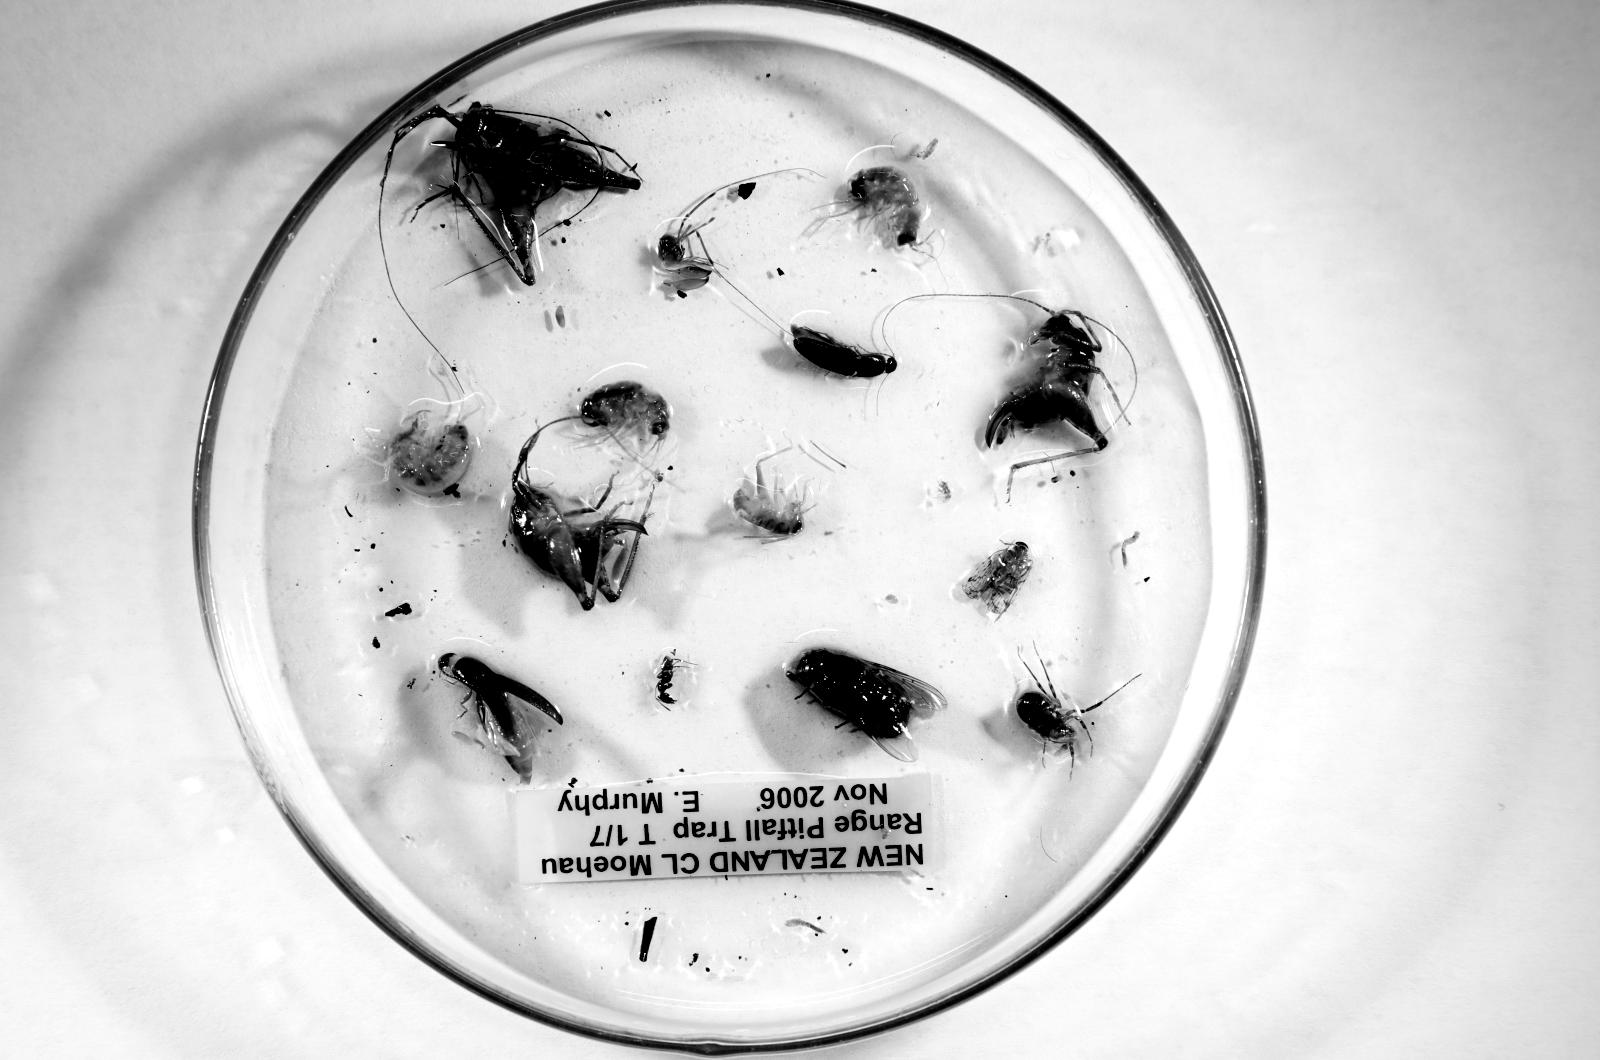amphipoda: (386, 409, 470, 497), (848, 166, 923, 246), (581, 380, 670, 440)
coleoptera: (438, 654, 563, 785), (790, 324, 897, 377)
diptera: (786, 648, 946, 762)
formicidae: (655, 650, 693, 709)
hemiptera: (958, 541, 1032, 619)
opiliones: (1016, 690, 1079, 757)
orthoptera: (391, 102, 642, 285), (511, 424, 647, 610), (985, 311, 1108, 449), (734, 461, 813, 540)
